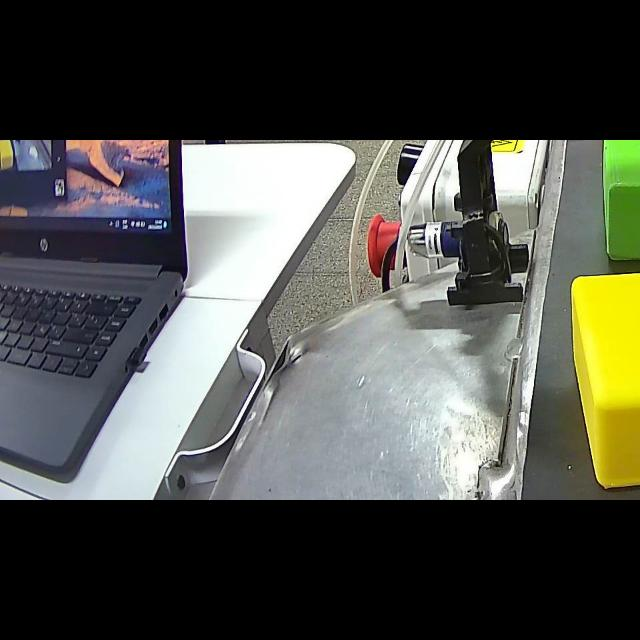greenBox: (600, 140, 640, 266)
yellowBox: (560, 264, 640, 494)
